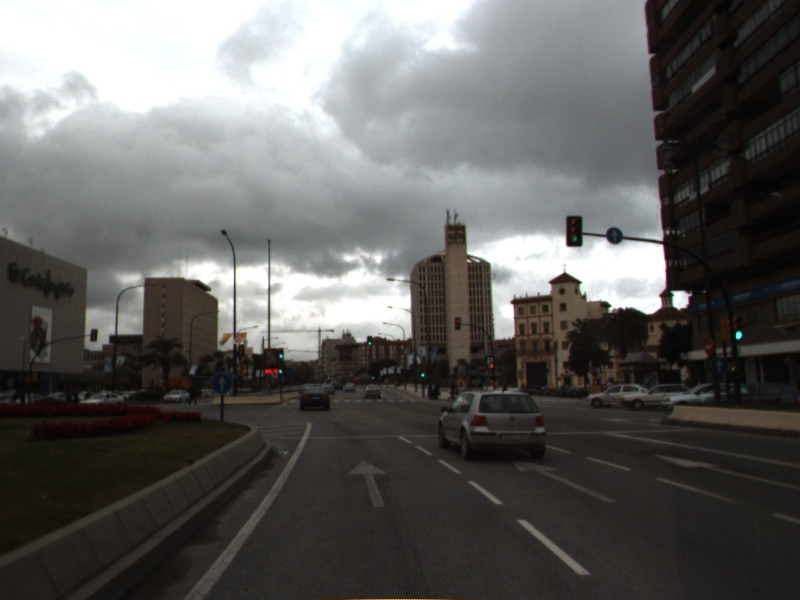STRAIGHT: (652, 452, 800, 492), (511, 457, 620, 505), (344, 457, 391, 510)
